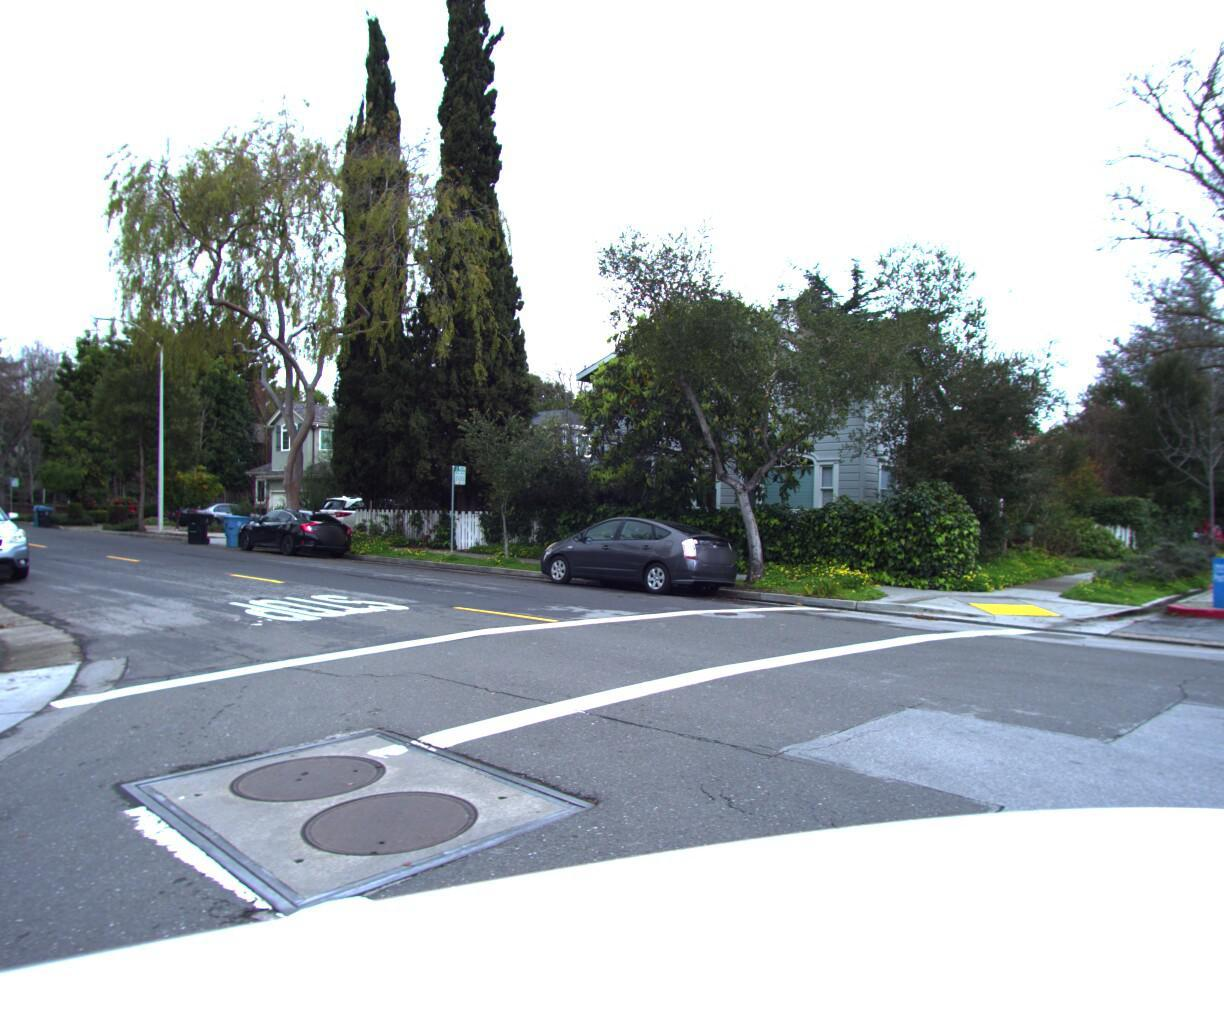car: (530, 515, 746, 605), (232, 507, 358, 561), (310, 497, 432, 541), (1131, 516, 1224, 550), (180, 503, 274, 533)
